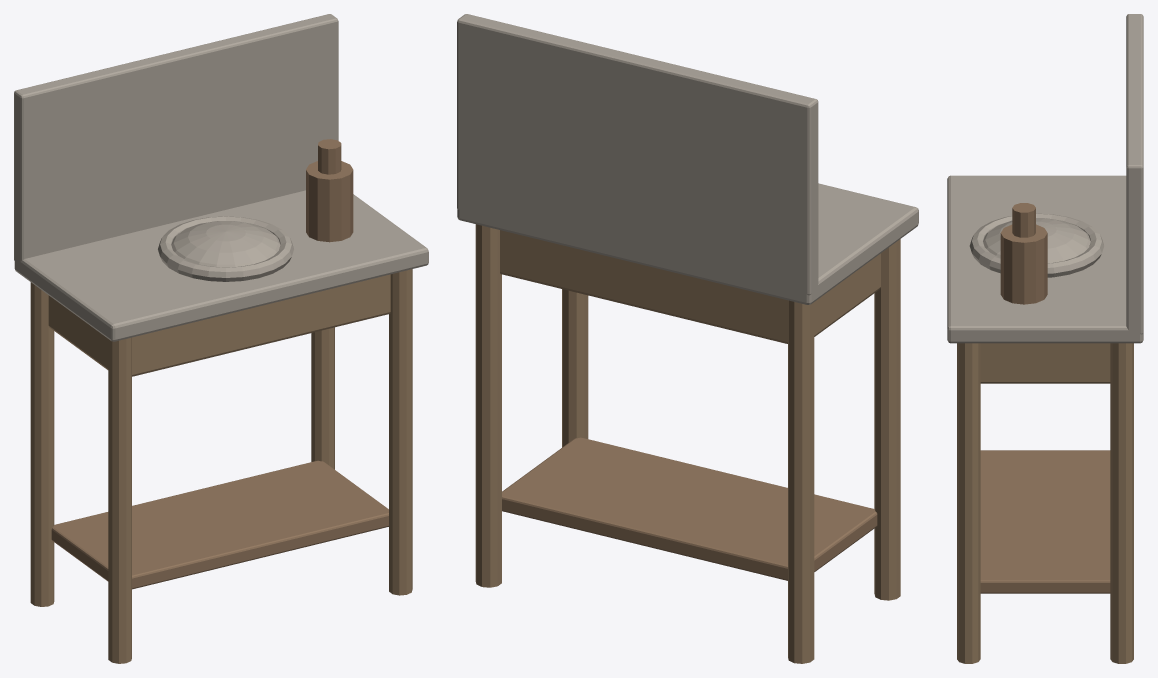
3 renders of one model, left to right at view 1: azimuth 30°, elevation 25°; view 2: azimuth 150°, elevation 25°; view 3: azimuth 270°, elevation 25°, orthographic. The views are drawn at different scales.
Visible parts, largest first — view 1: washStand; view 2: washStand; view 3: washStand.
Part boxes in pixels (bbox=[...]): washStand: bbox=[14, 14, 428, 663]; washStand: bbox=[457, 14, 918, 663]; washStand: bbox=[947, 14, 1143, 663].
Bounding box in the file's own units: 0.85 × 1.3 × 0.46.
